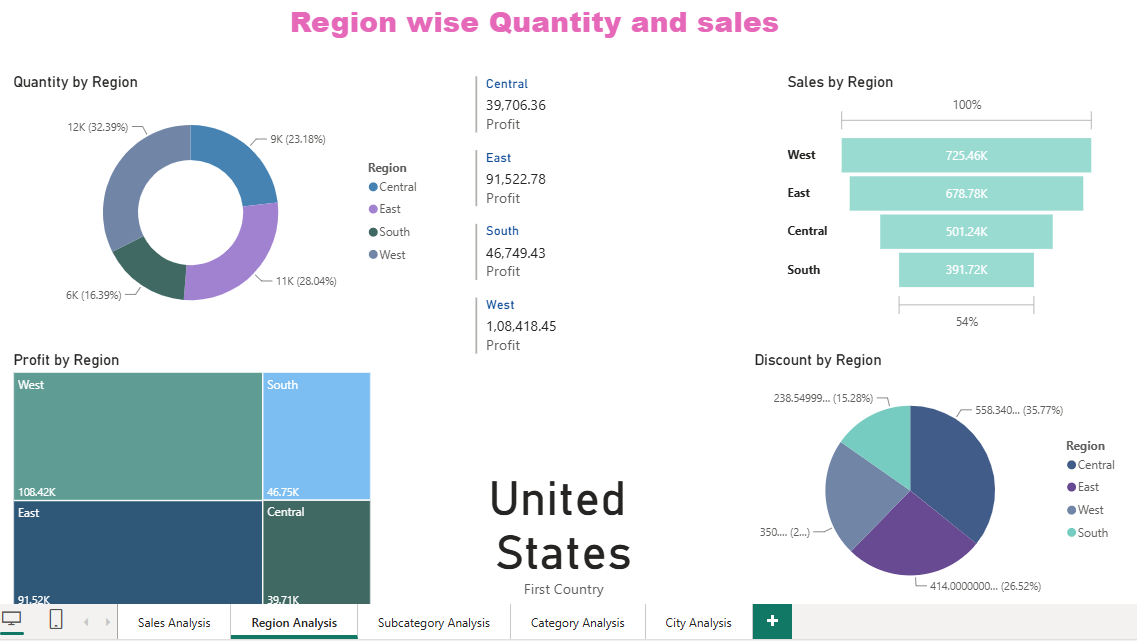

What the dashboard file says about the page in this screenshot:
{"tool":"powerbi","page":{"name":"Region Analysis","canvas":[1280,720],"ordinal":1},"visuals":[{"type":"donutChart","fields":{"Series":["Orders.Region"],"Y":["Sum(Orders.Quantity)"]},"box":[9.6,111.2,473.8,295.3],"z":0},{"type":"funnel","fields":{"Category":["Orders.Region"],"Y":["Sum(Orders.Sales)"]},"box":[881.7,111.2,357.1,295.3],"z":1000},{"type":"textbox","box":[142.8,24.7,917.4,61.8],"z":2000},{"type":"pieChart","fields":{"Category":["Orders.Region"],"Y":["Sum(Orders.Discount)"]},"box":[844.6,424.4,425.8,295.3],"z":3000},{"type":"treemap","fields":{"Group":["Orders.Region"],"Values":["Sum(Orders.Profit)"]},"box":[9.6,424.4,412,295.3],"z":4000},{"type":"multiRowCard","fields":{"Values":["Orders.Region","Sum(Orders.Profit)"]},"box":[530.5,110.9,217.5,386],"z":5000},{"type":"card","fields":{"Values":["Min(Orders.Country)"]},"box":[474.4,526.3,321.4,193.7],"z":6000}]}

Visuals, with their boxes on the page's 1280x720 design canvas (x1, y1, x2, y2). These are canvas units, not pixel positions in the 1137x641 screenshot, which may show the page scaled, cropped or inside an application window:
donutChart - Orders.Region x Sum(Orders.Quantity): BBox(10, 111, 483, 406)
funnel - Orders.Region x Sum(Orders.Sales): BBox(882, 111, 1239, 406)
textbox: BBox(143, 25, 1060, 86)
pieChart - Orders.Region x Sum(Orders.Discount): BBox(845, 424, 1270, 720)
treemap - Orders.Region x Sum(Orders.Profit): BBox(10, 424, 422, 720)
multiRowCard - Orders.Region x Sum(Orders.Profit): BBox(530, 111, 748, 497)
card - Min(Orders.Country): BBox(474, 526, 796, 720)
